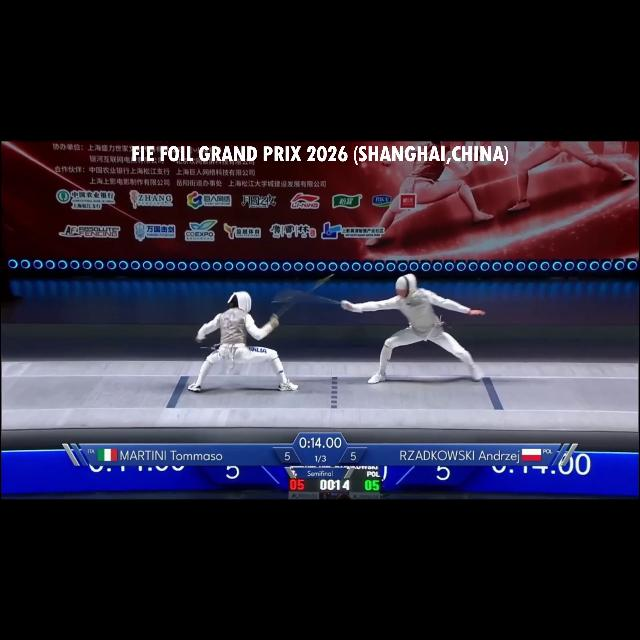blade: (266, 270, 338, 328), (267, 289, 351, 315)
